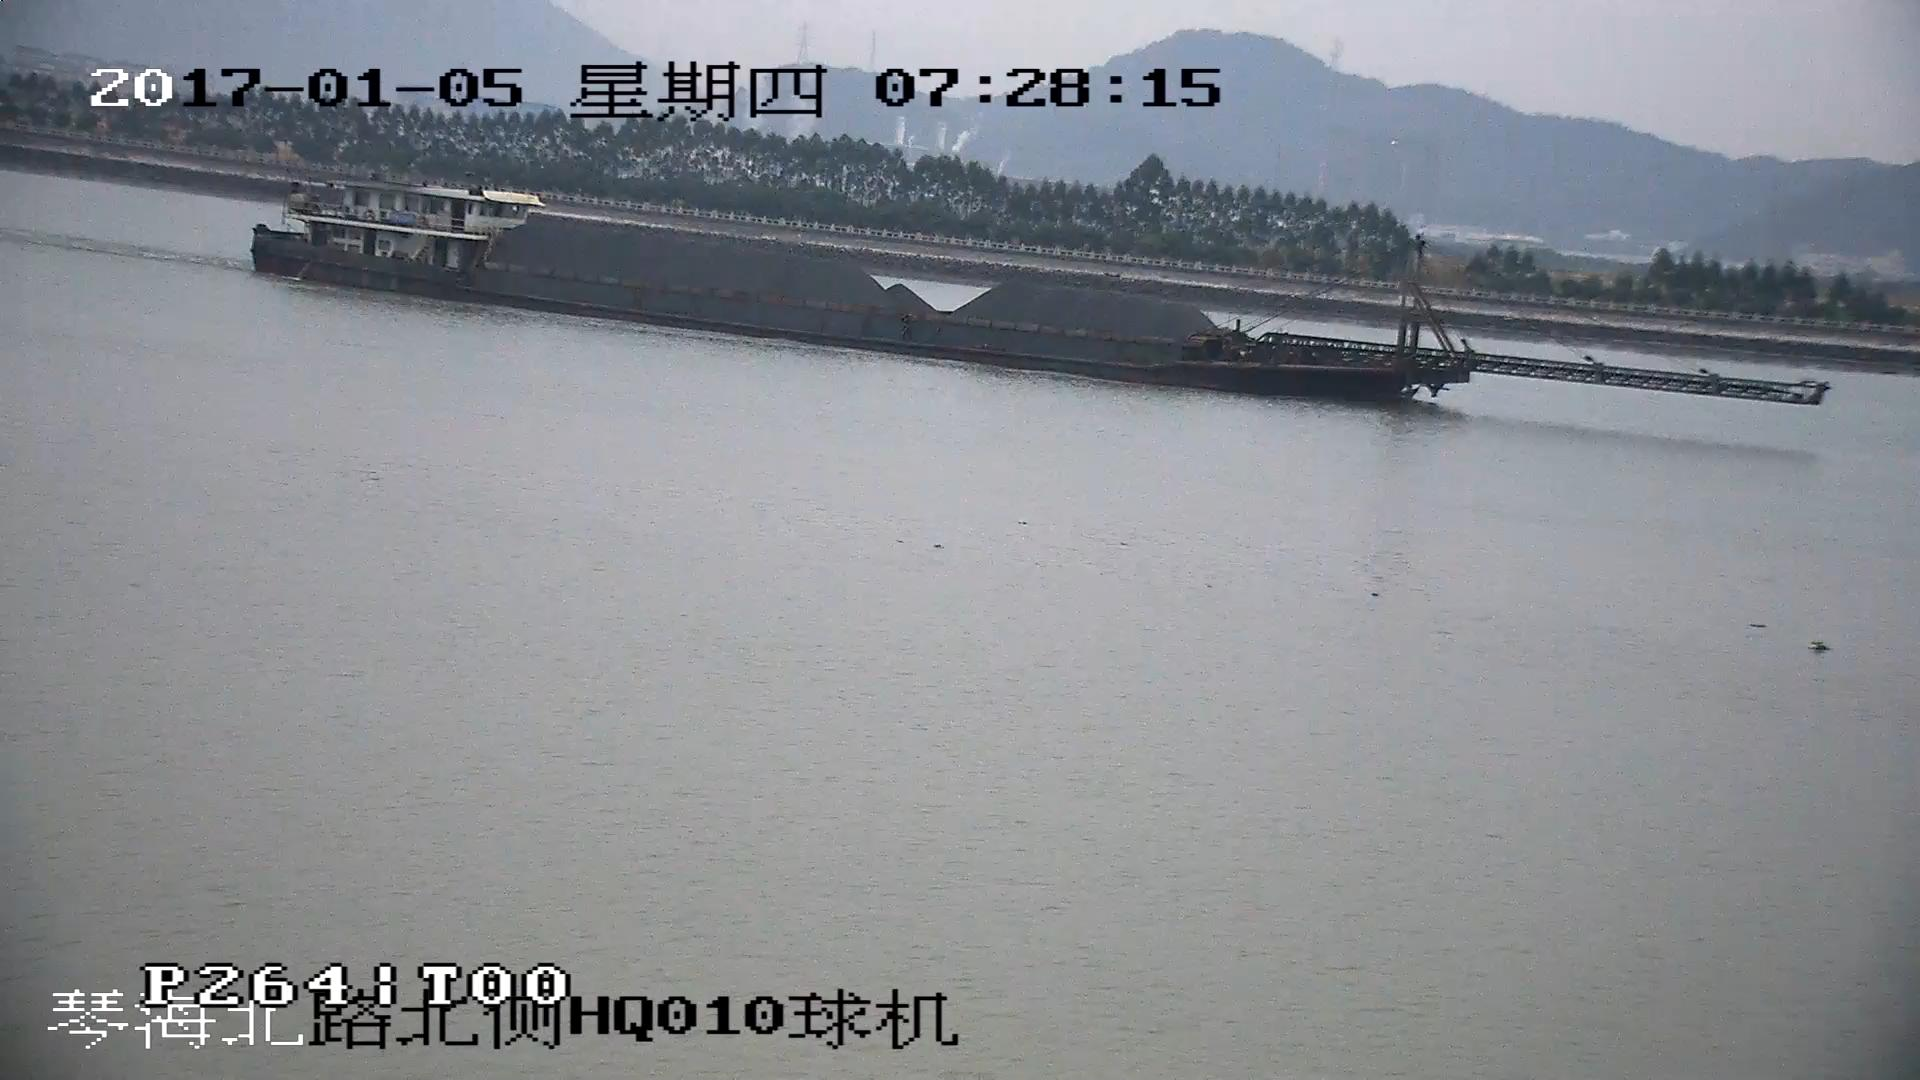ore carrier: (253, 180, 1828, 409)
